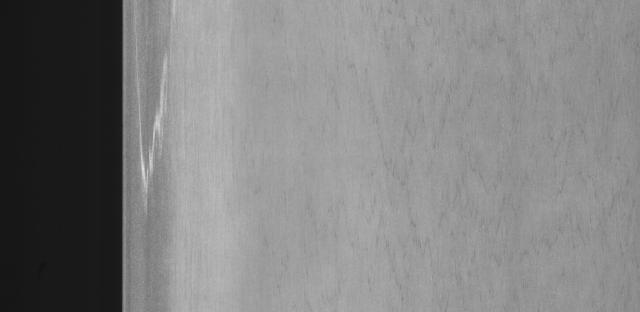silk_spot: (128, 47, 212, 199)
